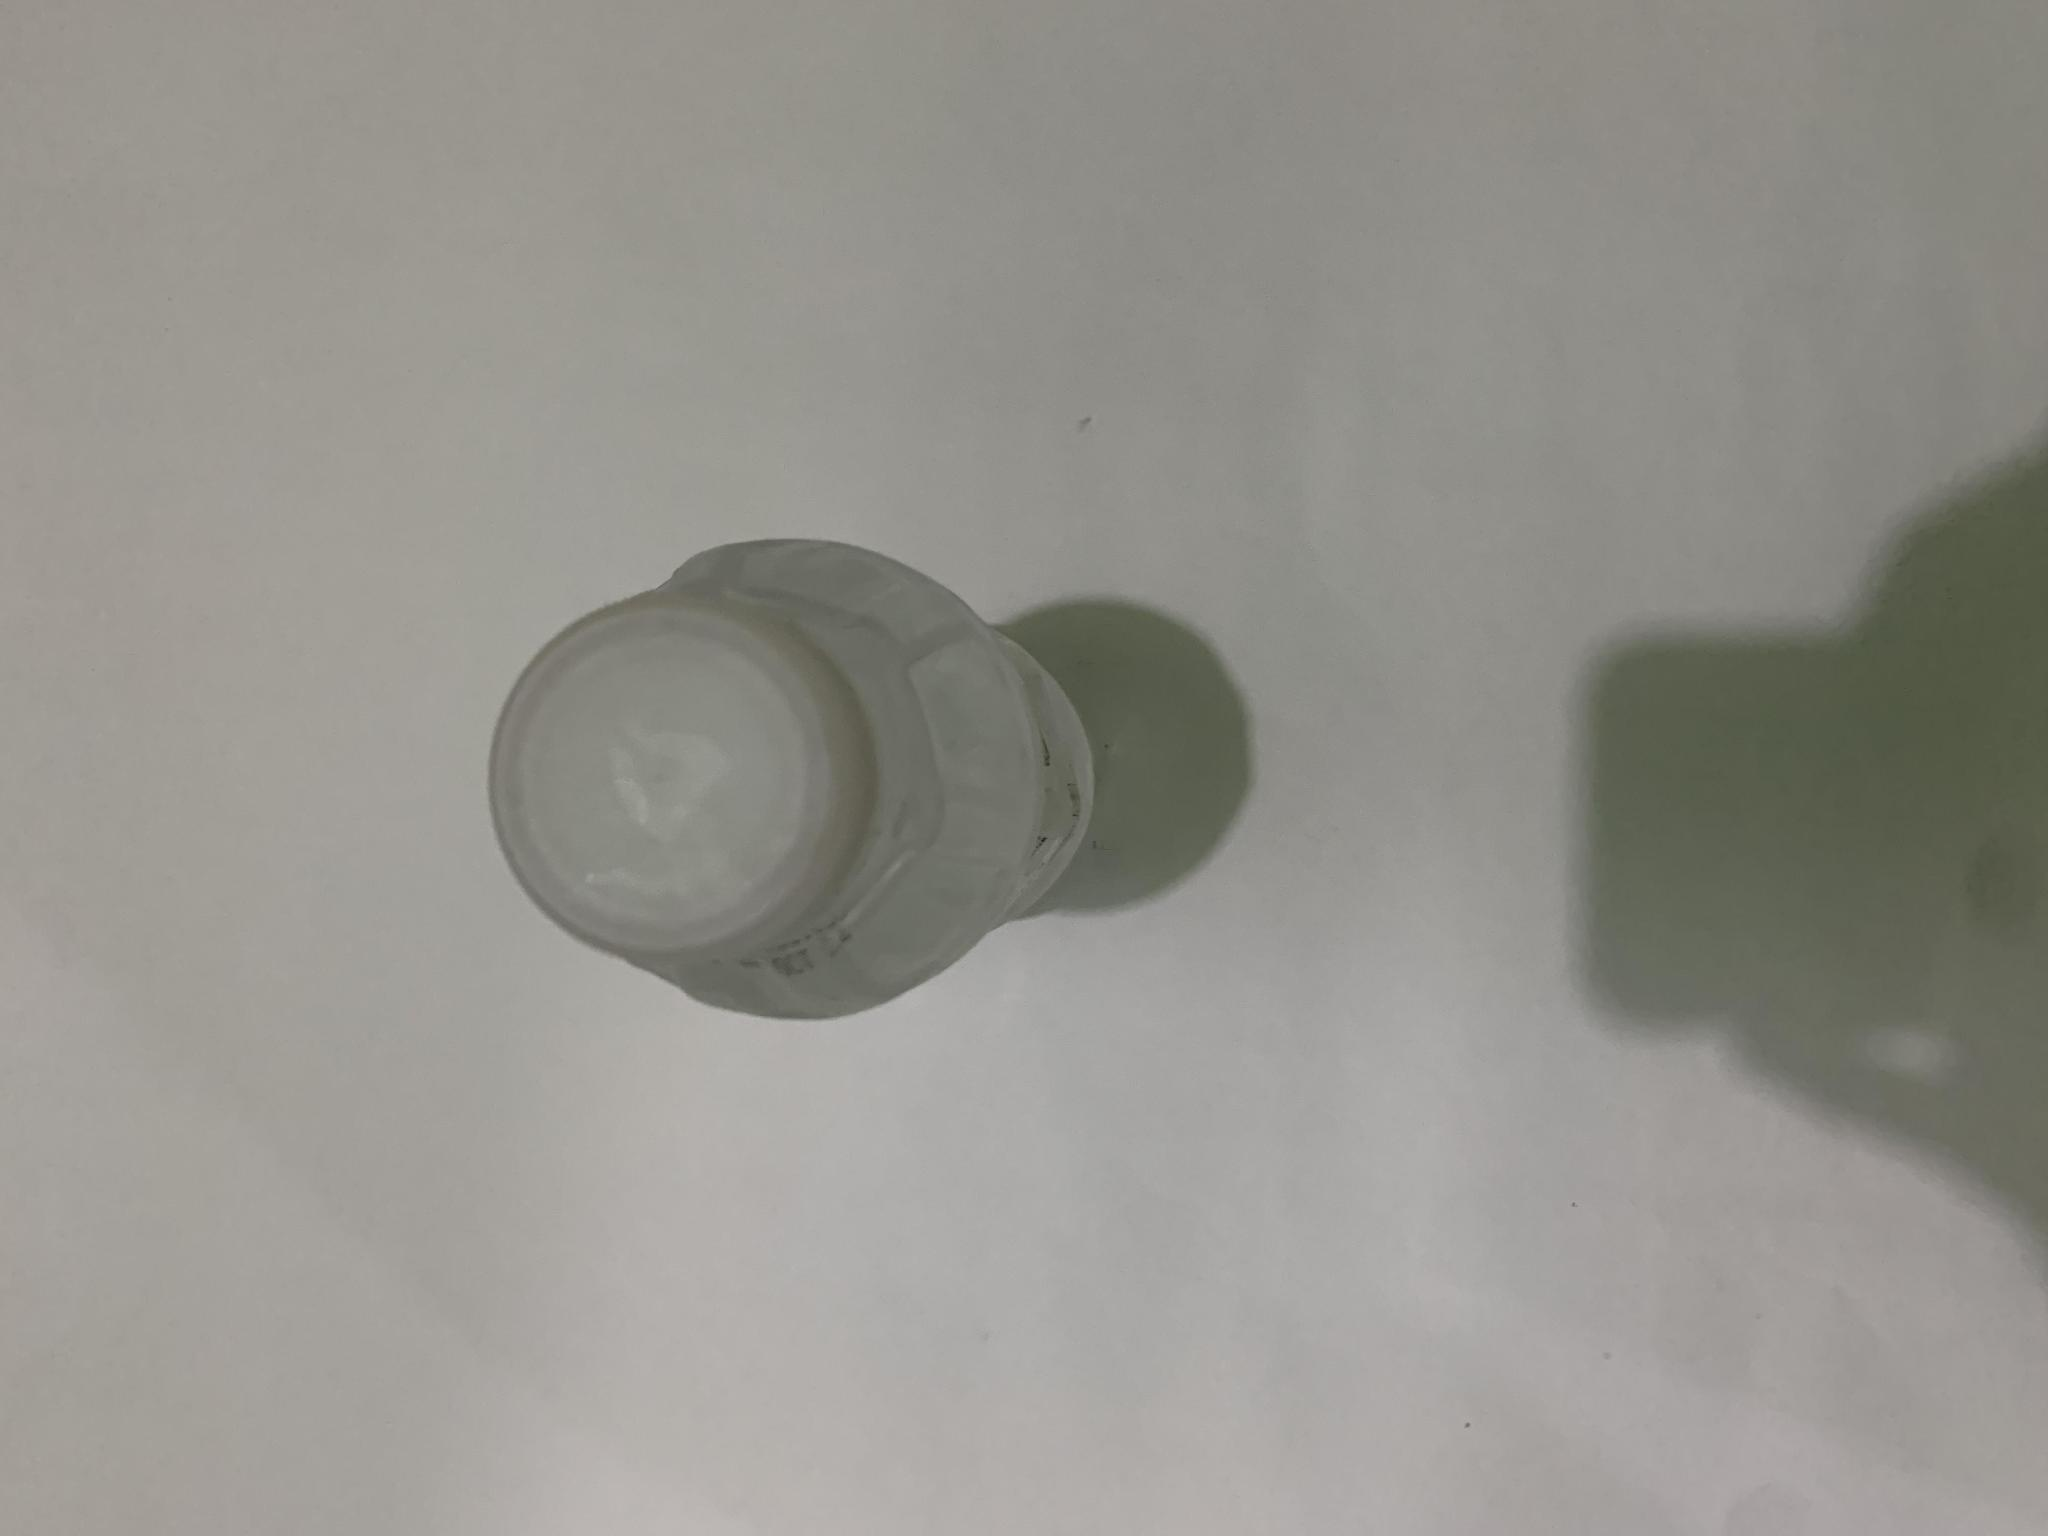bottle: (482, 550, 1145, 1028)
